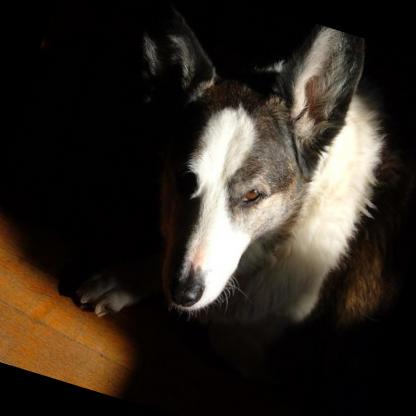Cardigan: (56, 0, 416, 399)
